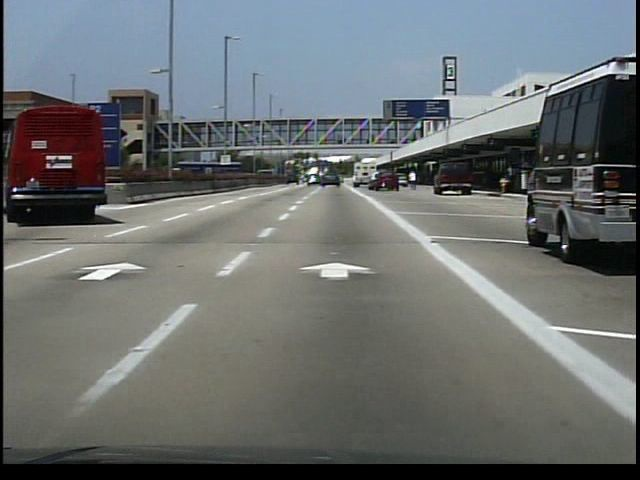person: (505, 164, 518, 197), (408, 168, 422, 191)
